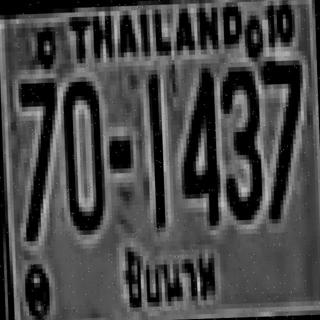N00: (59, 76, 103, 231)
N01: (145, 70, 165, 223)
N03: (219, 64, 260, 218)
N04: (178, 63, 218, 222)
N07: (260, 55, 304, 219), (18, 78, 59, 237), (18, 78, 58, 218), (18, 78, 57, 181)
P08: (113, 236, 229, 310)
